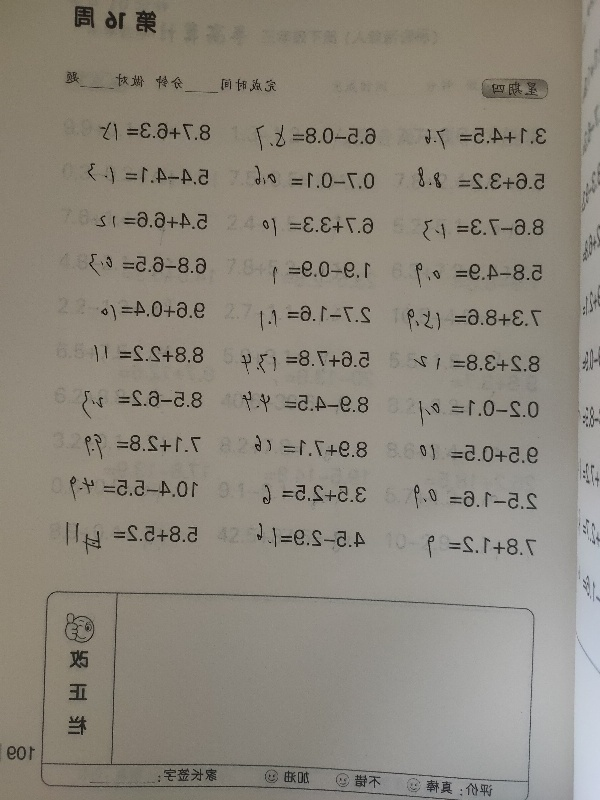equation: (52, 468, 205, 509), (71, 379, 208, 424), (248, 117, 381, 161), (404, 161, 553, 200), (62, 519, 202, 559), (232, 385, 379, 423), (411, 256, 548, 295), (233, 344, 375, 381), (413, 119, 557, 155), (411, 211, 552, 247), (411, 393, 551, 429), (239, 519, 371, 556), (67, 431, 207, 464), (256, 477, 373, 515), (244, 300, 377, 333), (403, 305, 544, 336), (247, 165, 381, 196), (411, 482, 541, 512), (85, 250, 210, 280), (415, 440, 547, 468), (85, 161, 213, 189), (423, 532, 540, 561), (411, 350, 544, 374), (259, 212, 378, 238), (269, 255, 375, 284), (96, 119, 214, 145), (91, 340, 208, 366), (252, 434, 372, 459), (98, 296, 209, 323), (93, 207, 212, 232)
